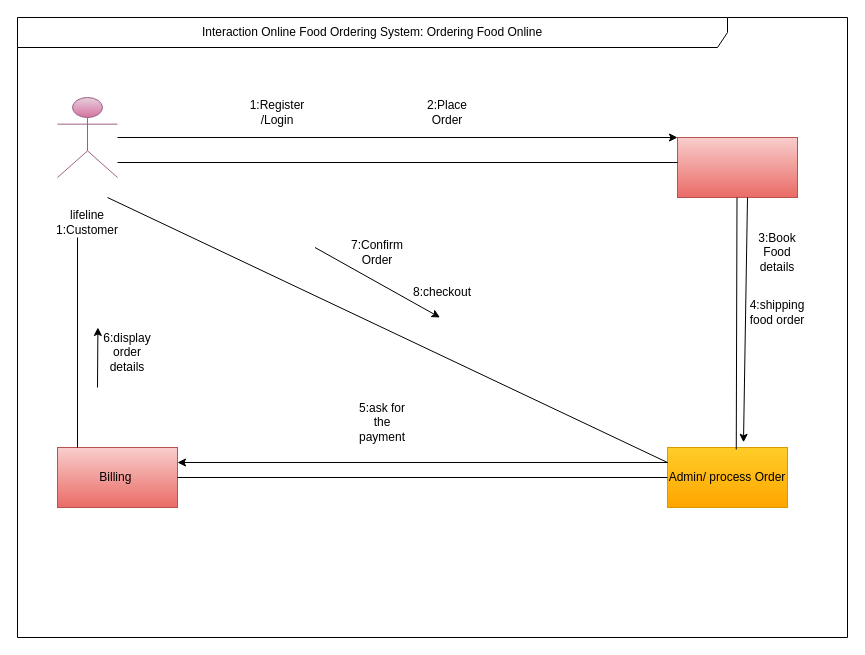
This 865x655 diagram has some shape labels left out. The box of each missing label's shape, as (x1, y1, x2, y2) in pixels:
Actor: (56, 96, 118, 178)
Cart: (676, 136, 798, 198)
